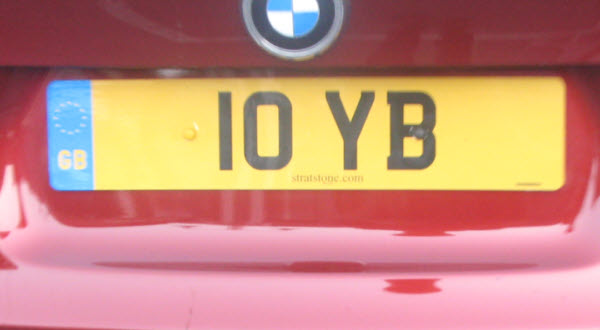license_plate: (45, 76, 565, 191)
